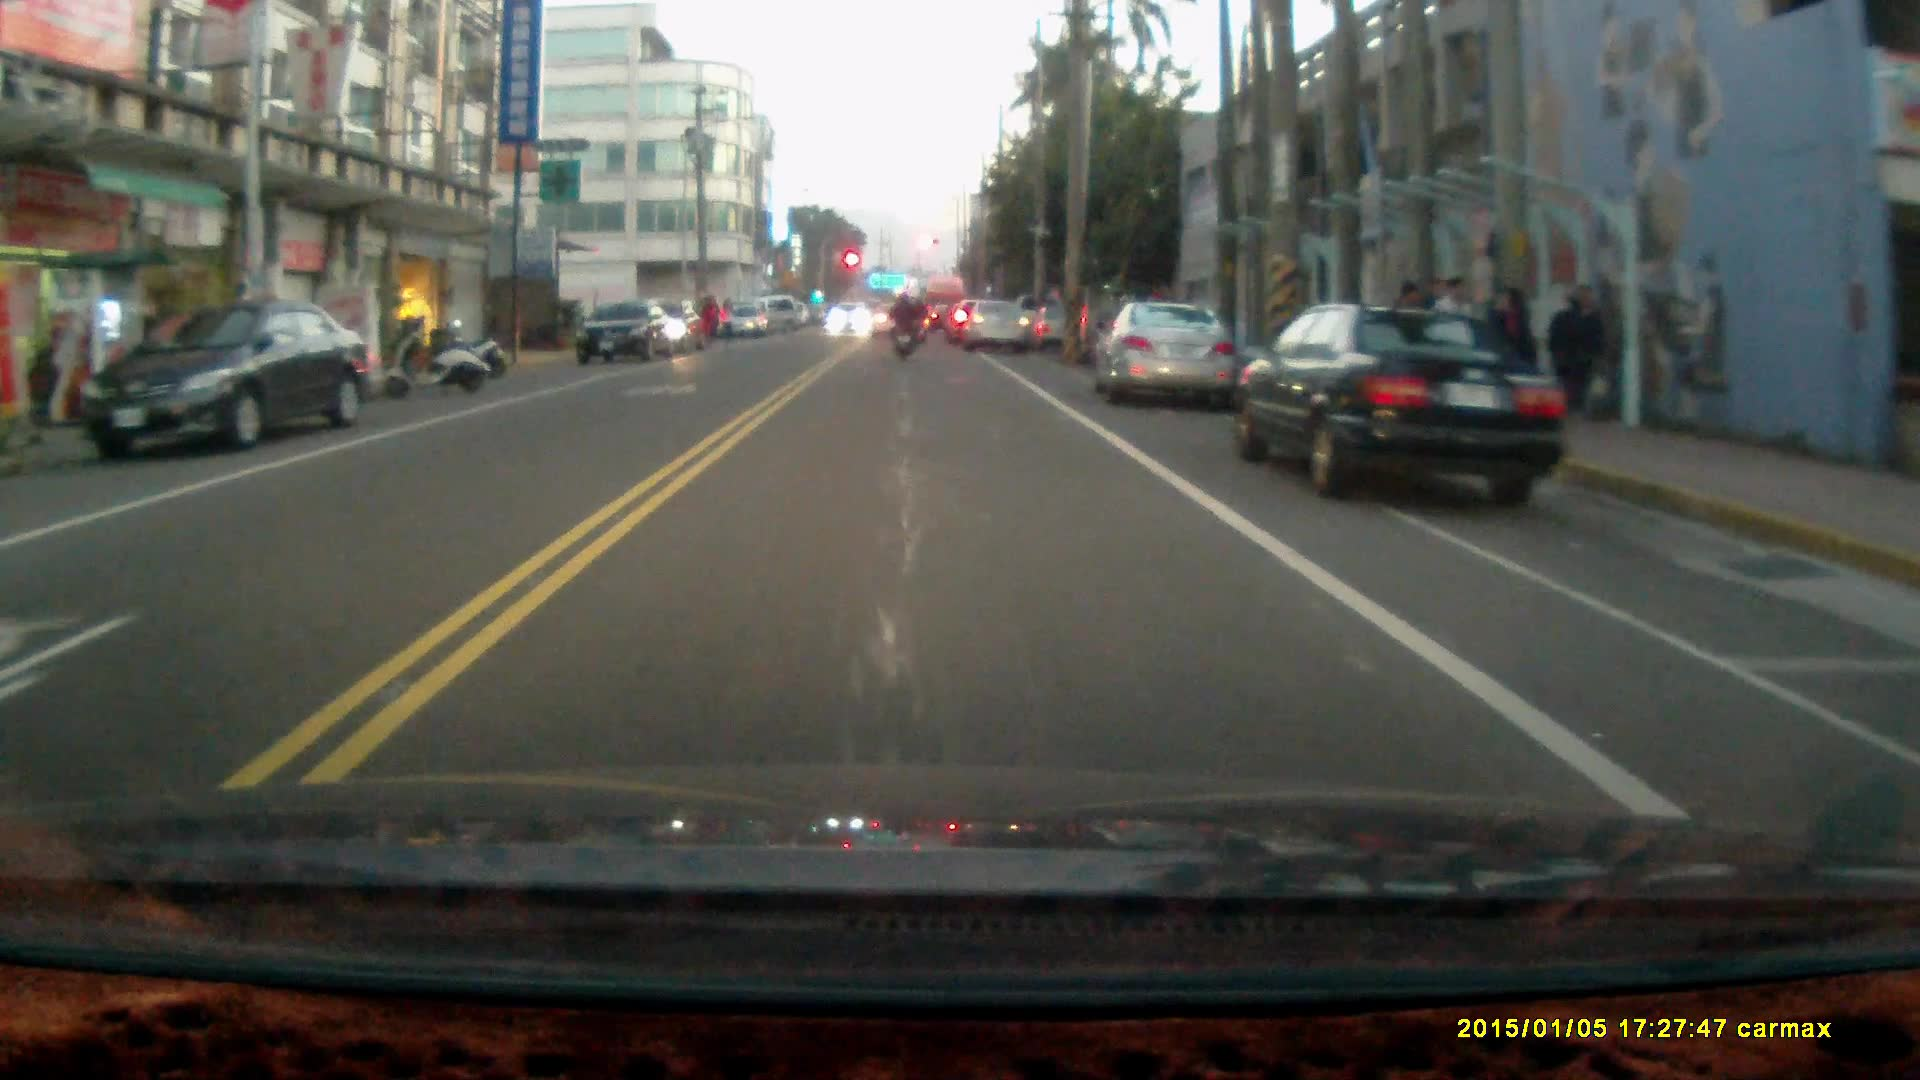pedestrian: (1548, 279, 1607, 419), (1485, 286, 1538, 402)
rider: (887, 290, 919, 362)
vehicle: (1224, 299, 1579, 498), (81, 302, 375, 454), (1096, 301, 1241, 410), (577, 301, 682, 366), (969, 299, 1033, 349)
